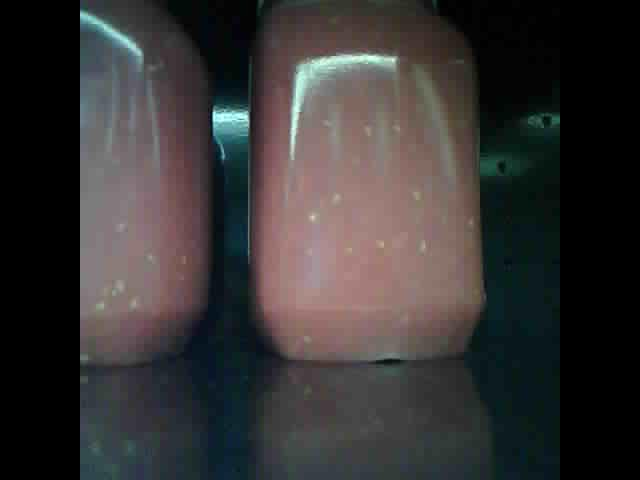tomate: (247, 5, 486, 367), (83, 7, 217, 368)
